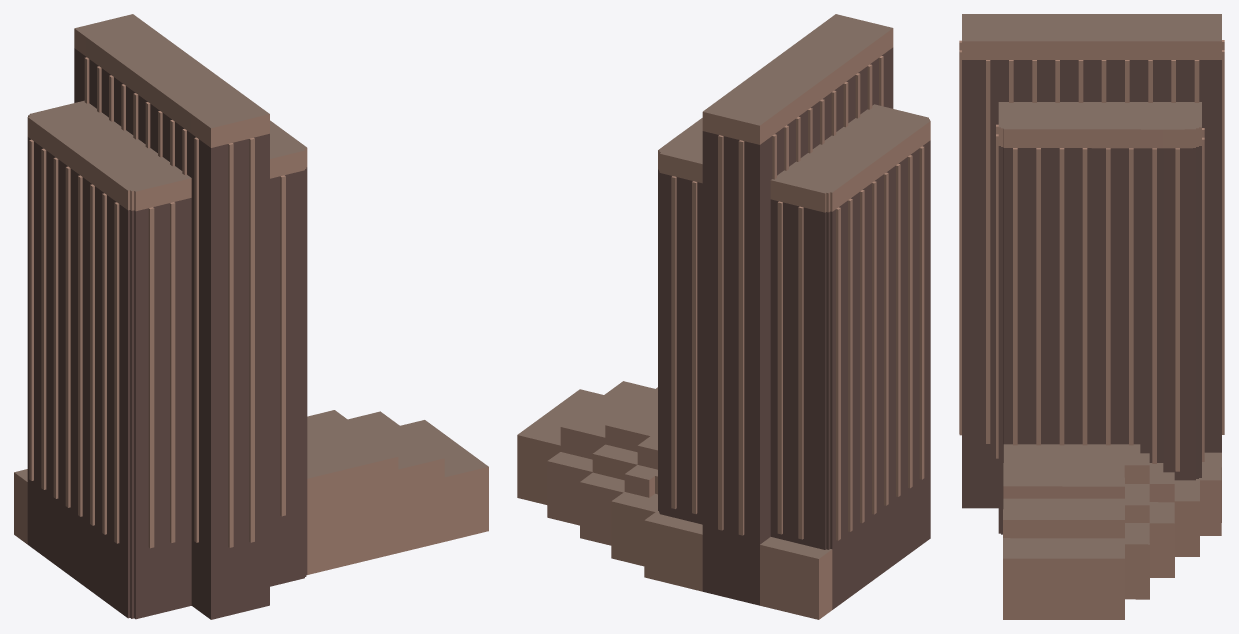
The model's file is world_trade_center.glb.
3 renders of one model, left to right at view 1: azimuth 30°, elevation 25°; view 2: azimuth 150°, elevation 25°; view 3: azimuth 270°, elevation 25°, orthographic. The views are drawn at different scales.
Visible parts, largest first — view 1: World_Trade_Center; view 2: World_Trade_Center; view 3: World_Trade_Center.
Boxes of the visible parts, left/top/right/bottom form: World_Trade_Center: left=14, top=14, right=488, bottom=619; World_Trade_Center: left=517, top=14, right=930, bottom=619; World_Trade_Center: left=959, top=14, right=1224, bottom=619.
Size of the model in its own units: 77.18 by 100 by 51.43.
